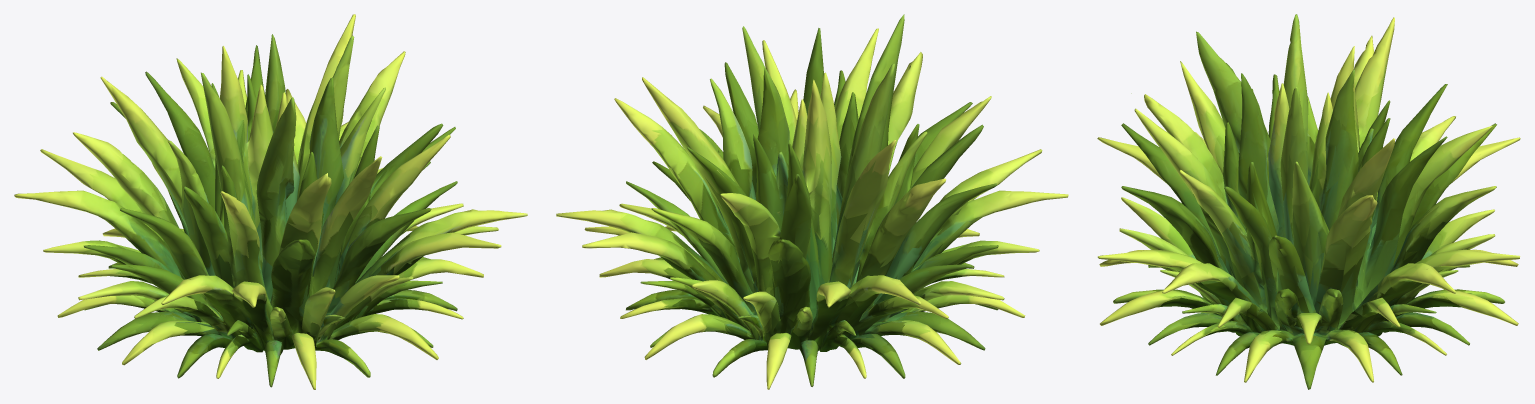
File: LomandraBush.fbx
3 renders of one model, left to right at view 1: azimuth 30°, elevation 25°; view 2: azimuth 150°, elevation 25°; view 3: azimuth 270°, elevation 25°, orthographic.
Visible parts, largest first — view 1: Mesh_0; view 2: Mesh_0; view 3: Mesh_0.
Part boxes in pixels (x1,y1,x2,y2): Mesh_0: [14, 14, 527, 389]; Mesh_0: [556, 14, 1068, 389]; Mesh_0: [1097, 14, 1520, 389].
Size of the model in its own units: 190 by 126 by 183.
